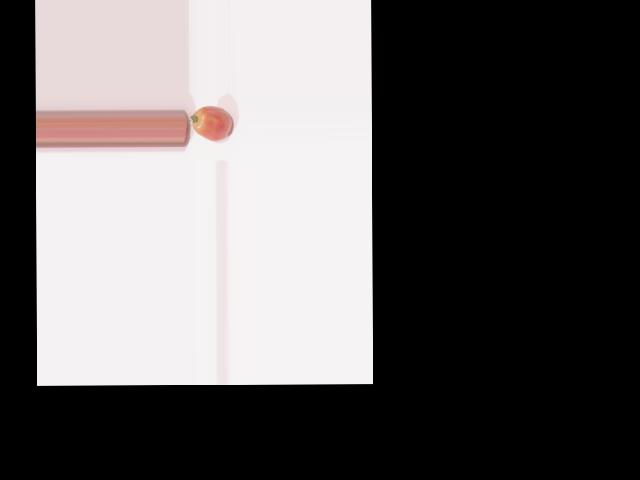tomato: (191, 106, 231, 141)
